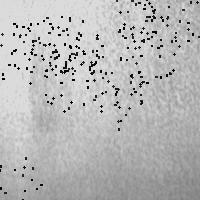pitted_surface: (30, 1, 199, 116), (45, 50, 105, 110), (43, 17, 102, 77), (22, 16, 80, 73), (90, 71, 146, 128), (119, 29, 178, 81), (0, 23, 52, 82), (115, 0, 175, 40), (140, 0, 198, 40), (0, 157, 42, 200)
